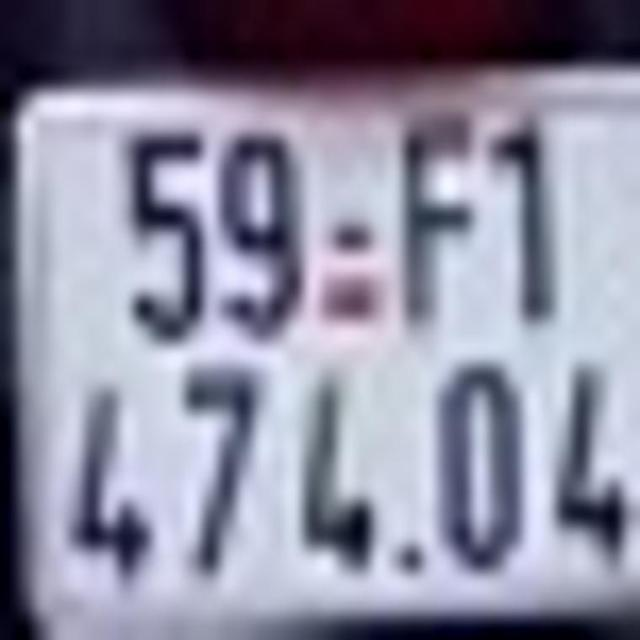0: (435, 354, 528, 573)
1: (492, 108, 561, 326)
4: (295, 365, 382, 578), (70, 378, 156, 584), (552, 354, 634, 569)
5: (125, 128, 208, 344)
7: (175, 363, 261, 580)
9: (216, 127, 305, 344)
F: (399, 107, 481, 328)
